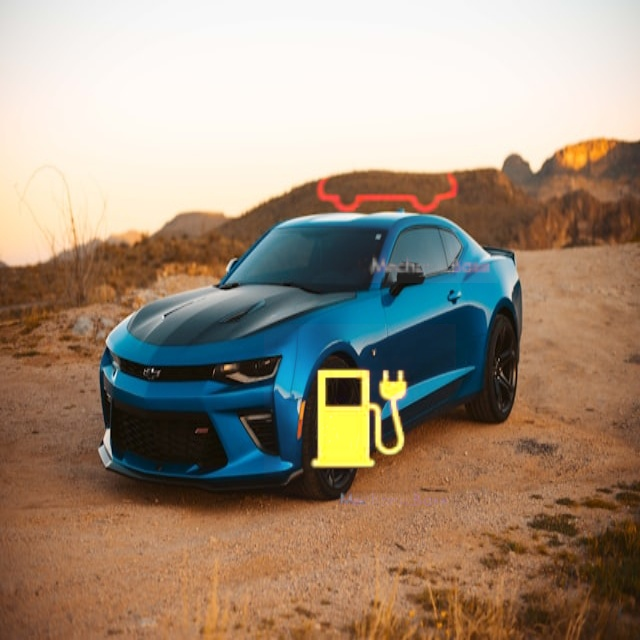symbol: (289, 74, 498, 283), (264, 324, 456, 516)
